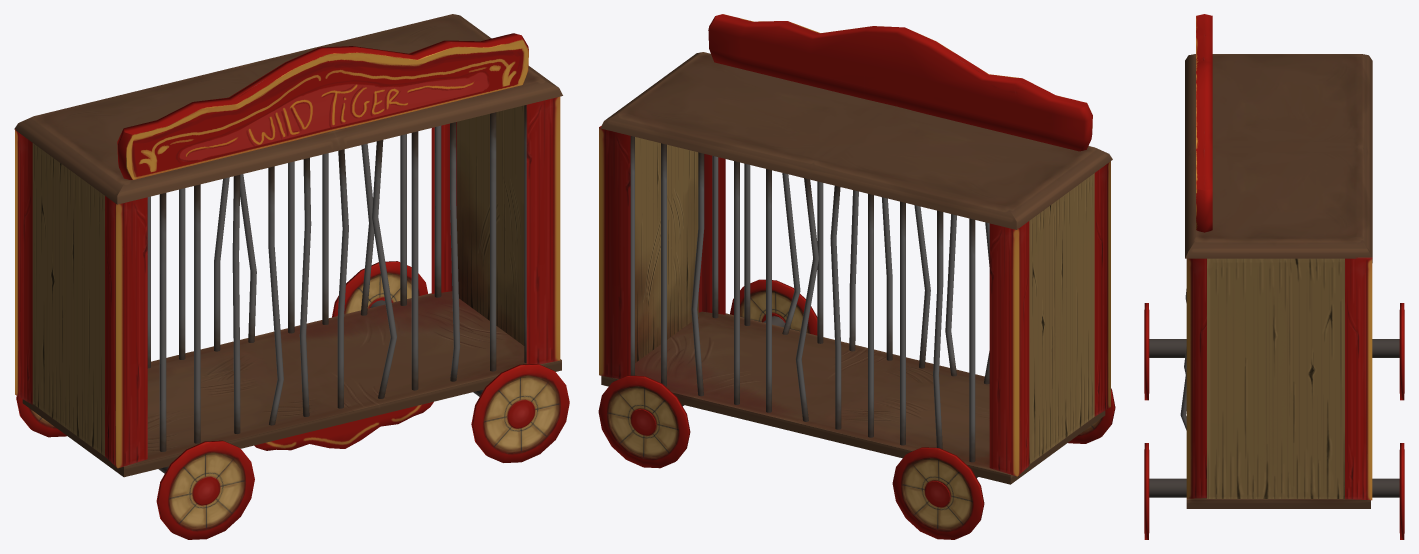
The model's file is CageVariation_Scaled.fbx.
3 renders of one model, left to right at view 1: azimuth 30°, elevation 25°; view 2: azimuth 150°, elevation 25°; view 3: azimuth 270°, elevation 25°, orthographic. The views are drawn at different scales.
Parts seen in each view (by area): view 1: CageBottom, CageMount, CageTop2, Cage_sidePanel, Cage_sidePanel1, Cage_Support4, Cage_Support5, Wheel, Wheel3, Cage_Support7, CageMount1, Cage_Support6 (+22 smaller); view 2: CageTop2, CageBottom, CageMount, Cage_sidePanel, Cage_sidePanel1, Cage_Support7, Cage_Support6, Wheel2, Wheel1, Cage_Support4, Cage_Support5, Wheel3 (+20 smaller); view 3: CageTop2, Cage_sidePanel1, Cage_Support6, Cage_Support5, CageMount, CageBottom, Cage_Underbar1, Cage_Underbar, Wheel, Wheel1, Wheel2, Wheel3.
Boxes of the visible parts, x1,y1,x2,y2 form: CageBottom: (22,291,561,477); CageMount: (117,33,528,179); CageTop2: (14,14,562,204); Cage_sidePanel: (32,143,104,456); Cage_sidePanel1: (457,105,524,345); Cage_Support4: (105,196,147,468); Cage_Support5: (526,96,560,364); Wheel: (156,440,254,539); Wheel3: (471,364,569,462); Cage_Support7: (15,129,32,404); CageMount1: (254,401,433,450); Cage_Support6: (431,122,456,293); CageTop2: (600,52,1112,229); CageBottom: (601,311,1105,484); CageMount: (708,14,1092,151); Cage_sidePanel: (1029,173,1094,464); Cage_sidePanel1: (635,137,698,362); Cage_Support7: (989,221,1029,476); Cage_Support6: (599,126,630,378); Wheel2: (598,375,690,468); Wheel1: (892,447,984,539); Cage_Support4: (1094,161,1110,416); Cage_Support5: (698,154,725,314); Wheel3: (730,279,817,335); CageTop2: (1185,54,1372,258); Cage_sidePanel1: (1207,258,1344,498); Cage_Support6: (1345,257,1372,500); Cage_Support5: (1186,258,1206,498); CageMount: (1196,14,1212,232); CageBottom: (1186,498,1370,508); Cage_Underbar1: (1149,478,1399,497); Cage_Underbar: (1149,339,1399,357); Wheel: (1144,303,1149,400); Wheel1: (1399,303,1404,400); Wheel2: (1399,443,1404,539); Wheel3: (1144,443,1149,539).
Size of the model in its own units: 272 by 250 by 151.
